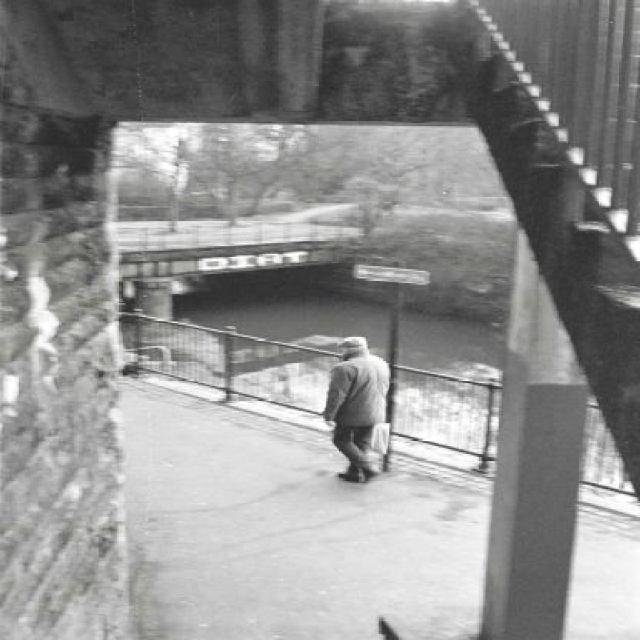stair: (457, 0, 640, 492)
